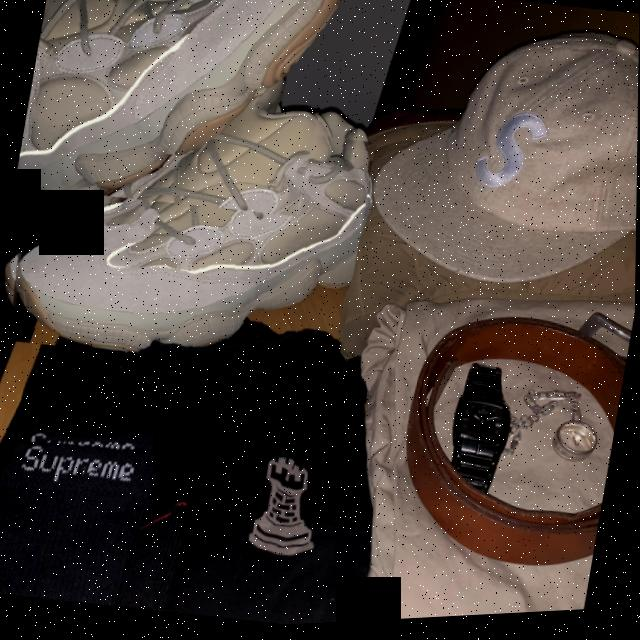shoe: (0, 83, 379, 393), (14, 0, 348, 232)
